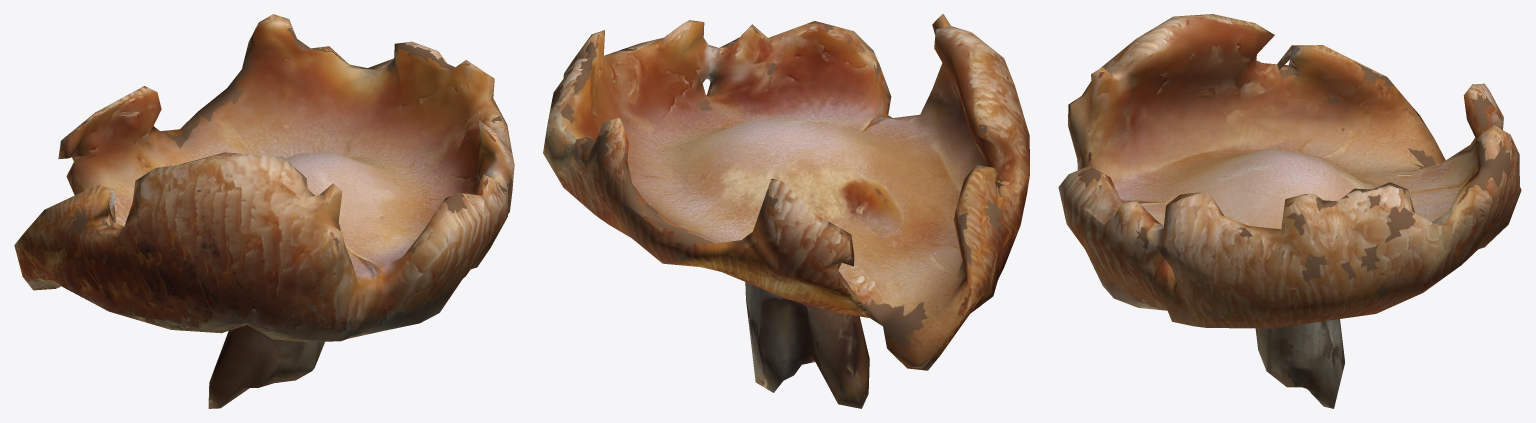
Rendered from shroom-3.gltf.
3 views of the same model, side by side, from view 1: azimuth 30°, elevation 25°; view 2: azimuth 150°, elevation 25°; view 3: azimuth 270°, elevation 25° (orthographic). The views are drawn at different scales.
Visible parts, largest first — view 1: mushroom_10; view 2: mushroom_10; view 3: mushroom_10.
Part boxes in pixels (<box>): mushroom_10: <box>14,14,514,408</box>; mushroom_10: <box>543,14,1029,408</box>; mushroom_10: <box>1058,14,1521,408</box>.
Bounding box in the file's own units: 93.82 × 65.37 × 82.6.
1 material, 1 textured.
